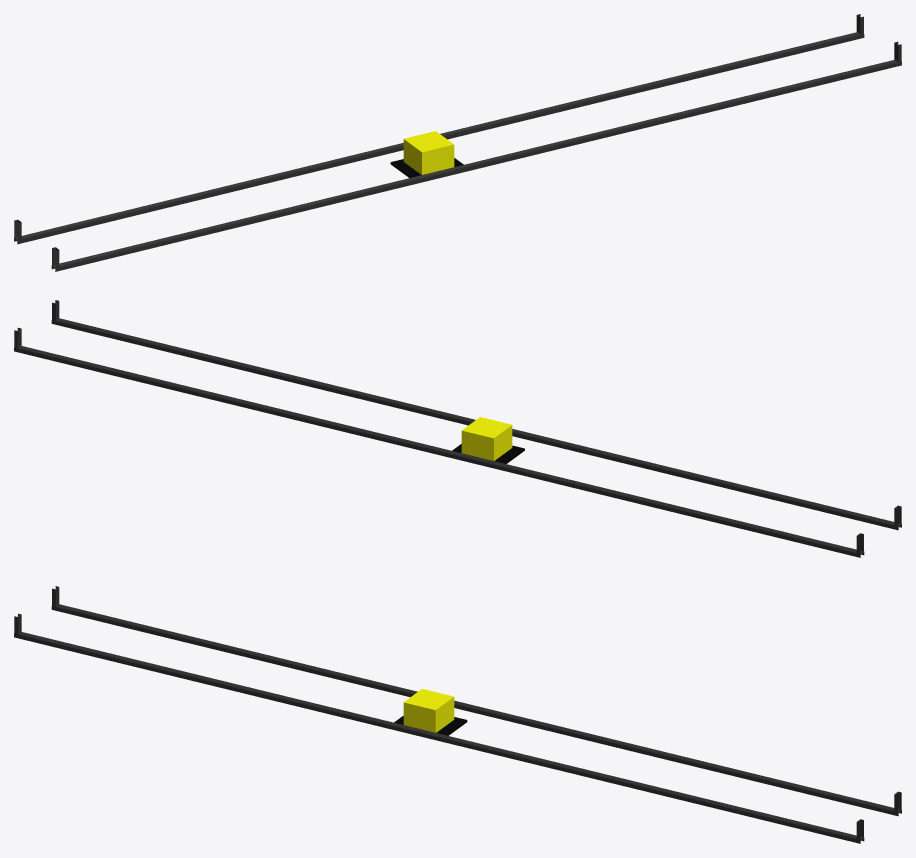
File: OT-2575 Instalacion_IDF_Rails-Motor.dae
3 renders of one model, top to bottom at view 1: azimuth 30°, elevation 25°; view 2: azimuth 150°, elevation 25°; view 3: azimuth 330°, elevation 25°, orthographic.
Parts seen in each view (by area): view 1: node0, node2, node1, node3, node4; view 2: node2, node0, node3, node1, node4; view 3: node0, node2, node1, node3, node4.
Part boxes in pixels (<box>): node0: <box>51,41,901,271</box>; node2: <box>14,14,864,244</box>; node1: <box>52,60,897,267</box>; node3: <box>14,32,859,239</box>; node4: <box>403,131,454,174</box>; node2: <box>14,327,864,557</box>; node0: <box>51,300,901,530</box>; node3: <box>18,346,863,553</box>; node1: <box>56,318,901,525</box>; node4: <box>461,417,512,460</box>; node0: <box>14,613,864,843</box>; node2: <box>51,586,901,816</box>; node1: <box>18,632,863,839</box>; node3: <box>56,604,901,811</box>; node4: <box>403,689,454,732</box>.
Size of the model in its own units: 10.5 by 0.89 by 0.351.
